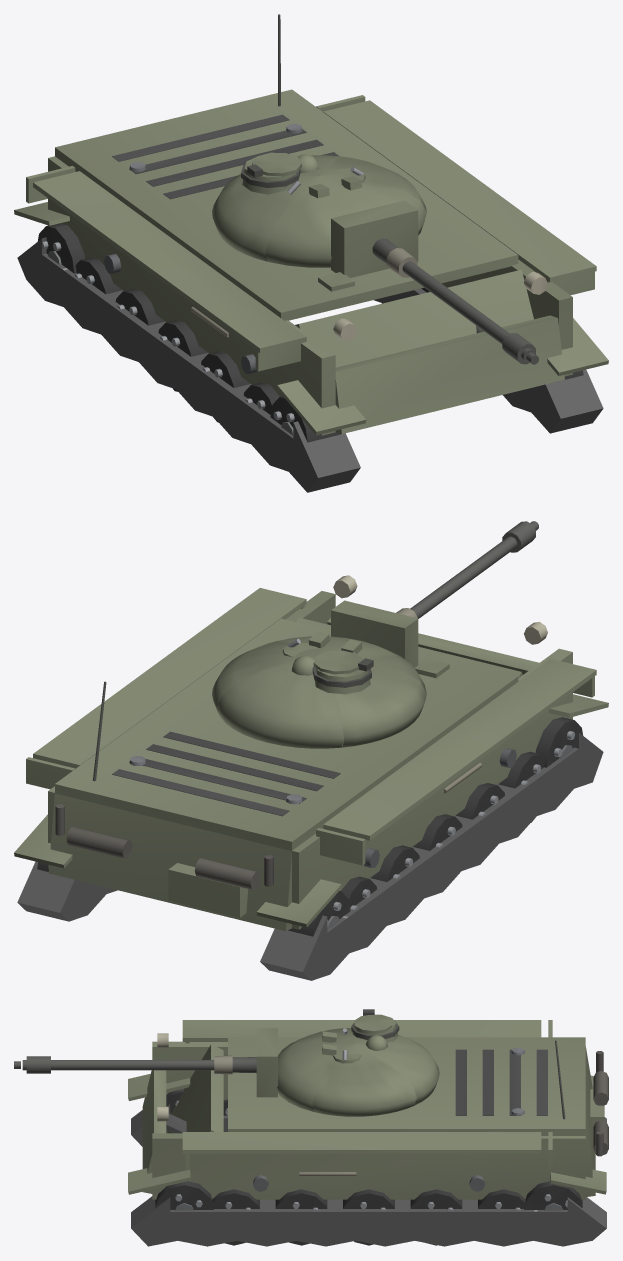
3 renders of one model, top to bottom at view 1: azimuth 30°, elevation 25°; view 2: azimuth 150°, elevation 25°; view 3: azimuth 270°, elevation 25°, orthographic. The views are drawn at different scales.
Visible parts, largest first — view 1: hullSide, hullTop, tracks, lowerPlate, glacis, turretFront, turretSide, mantlet, barrel, turretRoof, wheel6, wheel5 (+5 smaller); view 2: hullTop, hullSide, tracks, hullRear, turretRear, turretSide, mantlet, turretRoof, barrel, lowerPlate, turretFront, wheel5 (+7 smaller); view 3: hullSide, hullTop, tracks, turretSide, turretFront, barrel, glacis, hullRear, turretRear, turretRoof, lowerPlate, mantlet (+7 smaller).
Boxes of the visible parts, x1=… form: hullSide: x1=26, y1=95, x2=596, y2=435; hullTop: x1=55, y1=89, x2=518, y2=320; tracks: x1=14, y1=202, x2=608, y2=492; lowerPlate: x1=335, y1=315, x2=564, y2=433; glacis: x1=295, y1=269, x2=533, y2=367; turretFront: x1=265, y1=175, x2=426, y2=267; turretSide: x1=212, y1=156, x2=426, y2=261; mantlet: x1=331, y1=200, x2=418, y2=277; barrel: x1=372, y1=238, x2=538, y2=364; turretRoof: x1=241, y1=152, x2=365, y2=198; wheel6: x1=37, y1=223, x2=85, y2=273; wheel5: x1=270, y1=396, x2=340, y2=442; hullTop: x1=55, y1=618, x2=518, y2=850; hullSide: x1=26, y1=575, x2=596, y2=929; tracks: x1=14, y1=694, x2=608, y2=980; hullRear: x1=48, y1=681, x2=293, y2=931; turretRear: x1=217, y1=657, x2=343, y2=748; turretSide: x1=212, y1=641, x2=426, y2=747; mantlet: x1=331, y1=600, x2=418, y2=667; turretRoof: x1=282, y1=631, x2=373, y2=694; barrel: x1=396, y1=521, x2=538, y2=618; lowerPlate: x1=327, y1=618, x2=539, y2=674; turretFront: x1=278, y1=636, x2=426, y2=692; wheel5: x1=535, y1=717, x2=582, y2=767; hullSide: x1=152, y1=1020, x2=585, y2=1199; hullTop: x1=228, y1=1037, x2=585, y2=1135; tracks: x1=128, y1=1074, x2=606, y2=1246; turretSide: x1=312, y1=1028, x2=416, y2=1116; turretFront: x1=277, y1=1031, x2=353, y2=1111; barrel: x1=14, y1=1055, x2=256, y2=1074; glacis: x1=166, y1=1044, x2=256, y2=1133; hullRear: x1=555, y1=1040, x2=608, y2=1196; turretRear: x1=355, y1=1036, x2=439, y2=1105; turretRoof: x1=322, y1=1009, x2=399, y2=1063; lowerPlate: x1=142, y1=1070, x2=166, y2=1193; mantlet: x1=256, y1=1028, x2=277, y2=1097.
Size of the model in its own units: 4.33 by 2.89 by 8.38.
